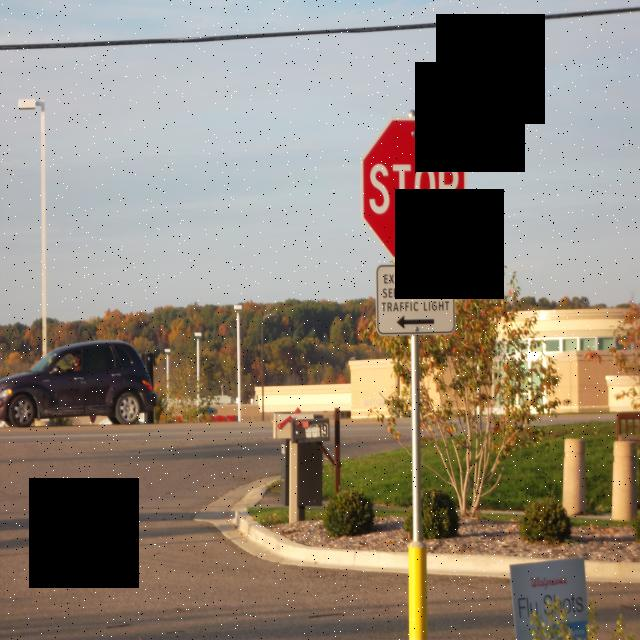regulatory: (374, 262, 456, 338)
stop: (365, 117, 467, 261)
